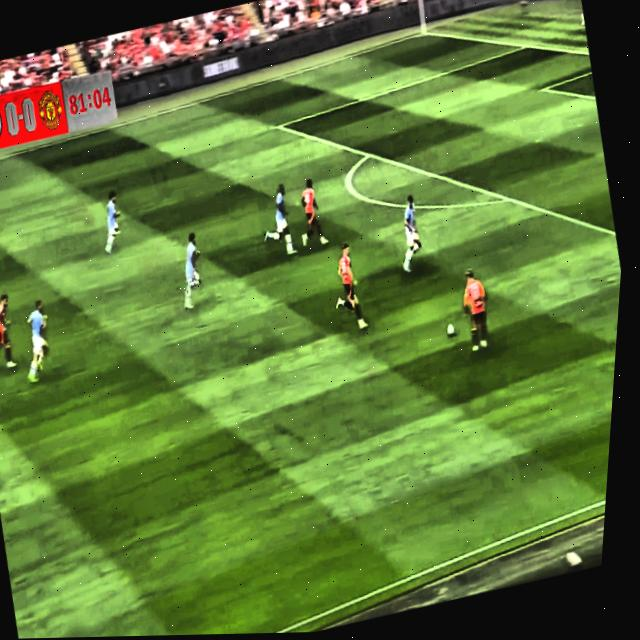ball: (441, 315, 460, 346)
players: (316, 234, 379, 346), (245, 168, 309, 273), (8, 287, 66, 388), (448, 262, 501, 363), (165, 218, 216, 318), (386, 189, 433, 285), (87, 179, 132, 258), (288, 175, 333, 252), (0, 281, 28, 388)
